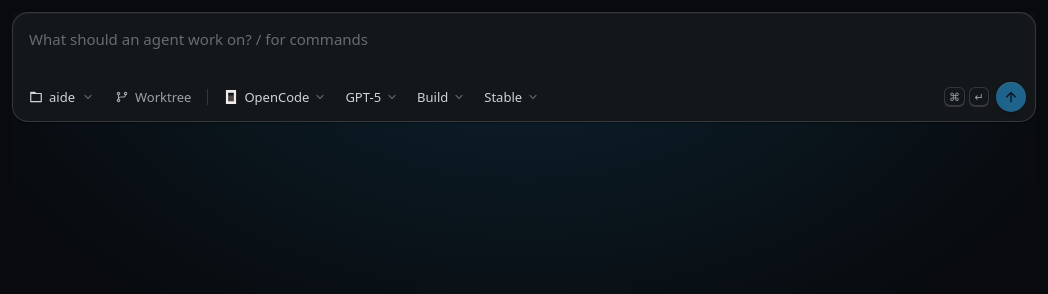
Test: StartTask › surfaces a failed start without opening anything
Check: the button with aria-label "Project" reads "aide", box [21,83,103,111]
Type "Do the thing" into the dropdown named "Message" at {"x": 524, "y": 45}, box [13,13,1035,77]
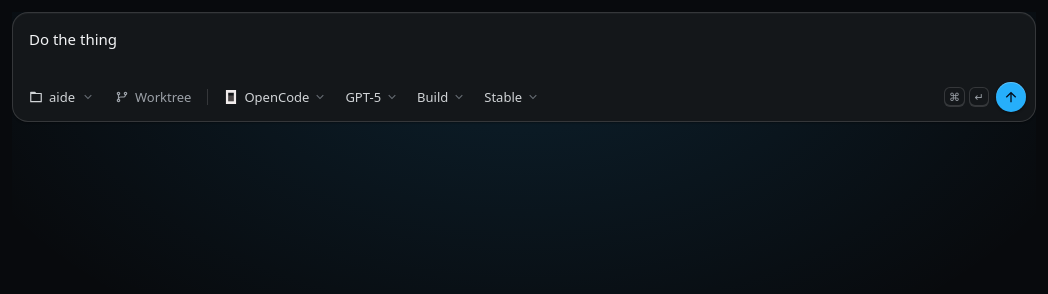
Click the button named "Send" at {"x": 1011, "y": 97}, box [995,81,1027,113]
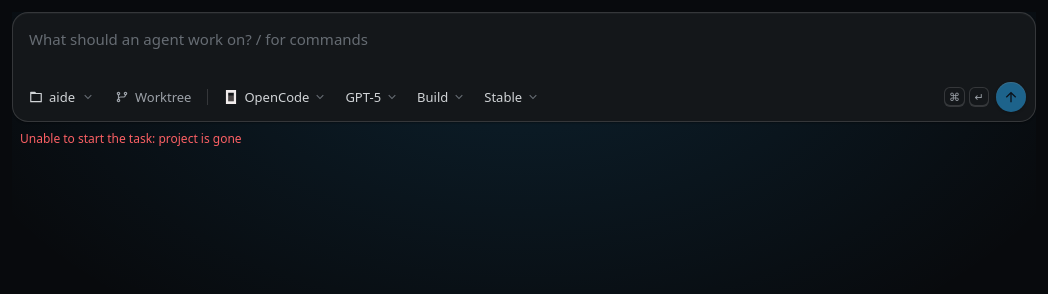
Check: the text "Unable to start the task: project is gone" is shown, box [20,130,242,147]
